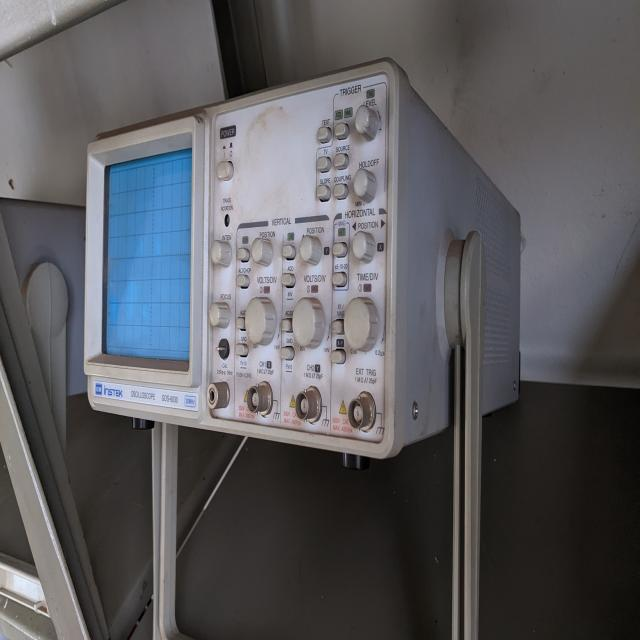Cathode Ray Oscilloscope: (84, 47, 456, 533)
